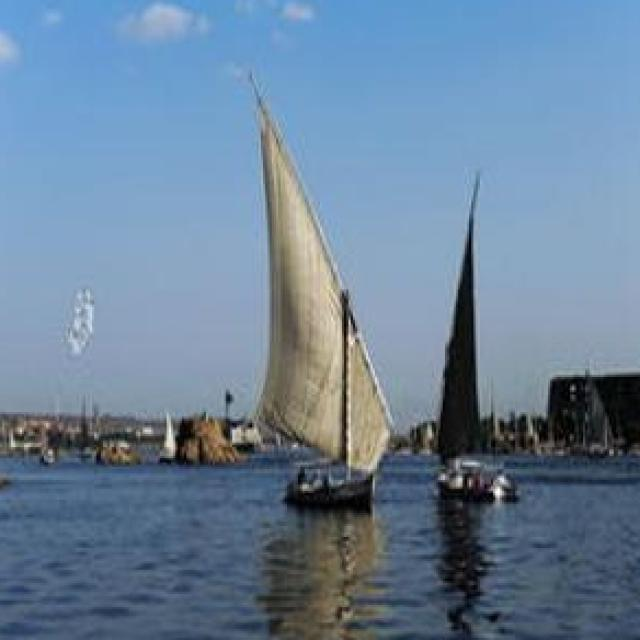sailboat: (238, 75, 399, 516), (429, 161, 540, 509)
